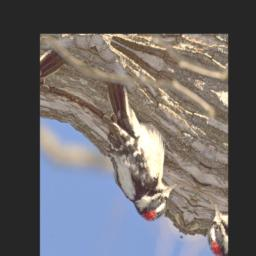Woodpecker: (72, 77, 198, 229)
